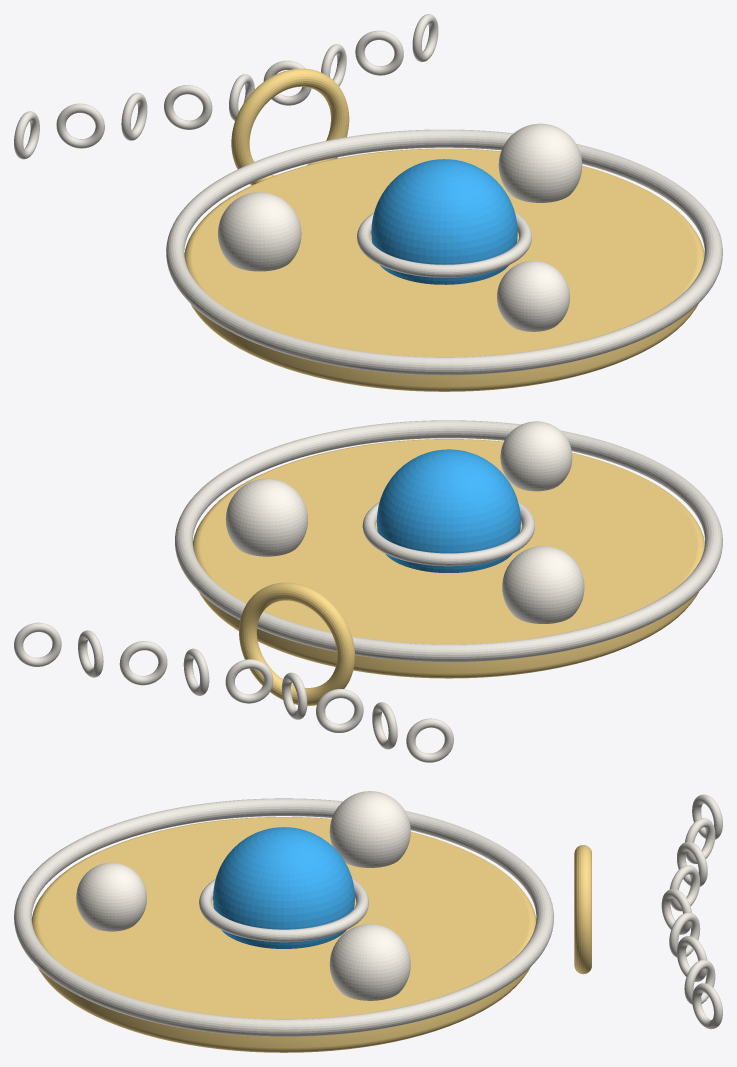
The model's file is necklace.glb.
3 renders of one model, top to bottom at view 1: azimuth 30°, elevation 25°; view 2: azimuth 150°, elevation 25°; view 3: azimuth 270°, elevation 25°, orthographic. The views are drawn at different scales.
Visible parts, largest first — view 1: 圓形主吊墜, 銀色外框, 中央藍色寶石, 右側珍珠, 左側珍珠, 下方珍珠, 上方扣環, 寶石固定座, 鏈節_2, 鏈節_8, 鏈節_4, 鏈節_9 (+5 smaller); view 2: 圓形主吊墜, 銀色外框, 中央藍色寶石, 左側珍珠, 右側珍珠, 上方扣環, 下方珍珠, 寶石固定座, 鏈節_5, 鏈節_9, 鏈節_7, 鏈節_1 (+5 smaller); view 3: 圓形主吊墜, 銀色外框, 中央藍色寶石, 右側珍珠, 左側珍珠, 下方珍珠, 寶石固定座, 上方扣環, 鏈節_9, 鏈節_1, 鏈節_2, 鏈節_5 (+5 smaller).
Boxes of the visible parts, <box> form: 圓形主吊墜: <box>184,148,704,391</box>; 銀色外框: <box>166,129,722,375</box>; 中央藍色寶石: <box>371,159,517,284</box>; 右側珍珠: <box>498,123,582,202</box>; 左側珍珠: <box>218,192,301,271</box>; 下方珍珠: <box>497,260,569,331</box>; 上方扣環: <box>231,68,349,185</box>; 寶石固定座: <box>357,212,531,277</box>; 鏈節_2: <box>56,103,104,148</box>; 鏈節_8: <box>355,30,403,75</box>; 鏈節_4: <box>164,85,212,129</box>; 鏈節_9: <box>412,14,438,61</box>; 圓形主吊墜: <box>193,439,704,678</box>; 銀色外框: <box>175,420,722,662</box>; 中央藍色寶石: <box>377,449,520,572</box>; 左側珍珠: <box>502,546,584,623</box>; 右側珍珠: <box>225,478,307,556</box>; 上方扣環: <box>239,582,354,705</box>; 下方珍珠: <box>500,421,572,491</box>; 寶石固定座: <box>362,502,534,566</box>; 鏈節_5: <box>225,659,273,703</box>; 鏈節_9: <box>14,622,61,666</box>; 鏈節_7: <box>119,641,167,685</box>; 鏈節_1: <box>406,718,453,762</box>; 圓形主吊墜: <box>31,817,536,1052</box>; 銀色外框: <box>14,798,553,1036</box>; 中央藍色寶石: <box>213,827,354,948</box>; 右側珍珠: <box>329,924,410,1000</box>; 左側珍珠: <box>329,791,410,867</box>; 下方珍珠: <box>76,862,146,931</box>; 寶石固定座: <box>199,879,368,942</box>; 上方扣環: <box>574,845,591,974</box>; 鏈節_9: <box>692,983,722,1029</box>; 鏈節_1: <box>692,794,722,839</box>; 鏈節_2: <box>685,818,715,863</box>; 鏈節_5: <box>661,889,691,934</box>.
Bounding box in the file's own units: 2.13 × 0.585 × 2.8.
